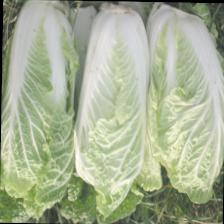cabbage: (71, 1, 150, 220), (0, 0, 79, 218), (143, 3, 224, 204)
